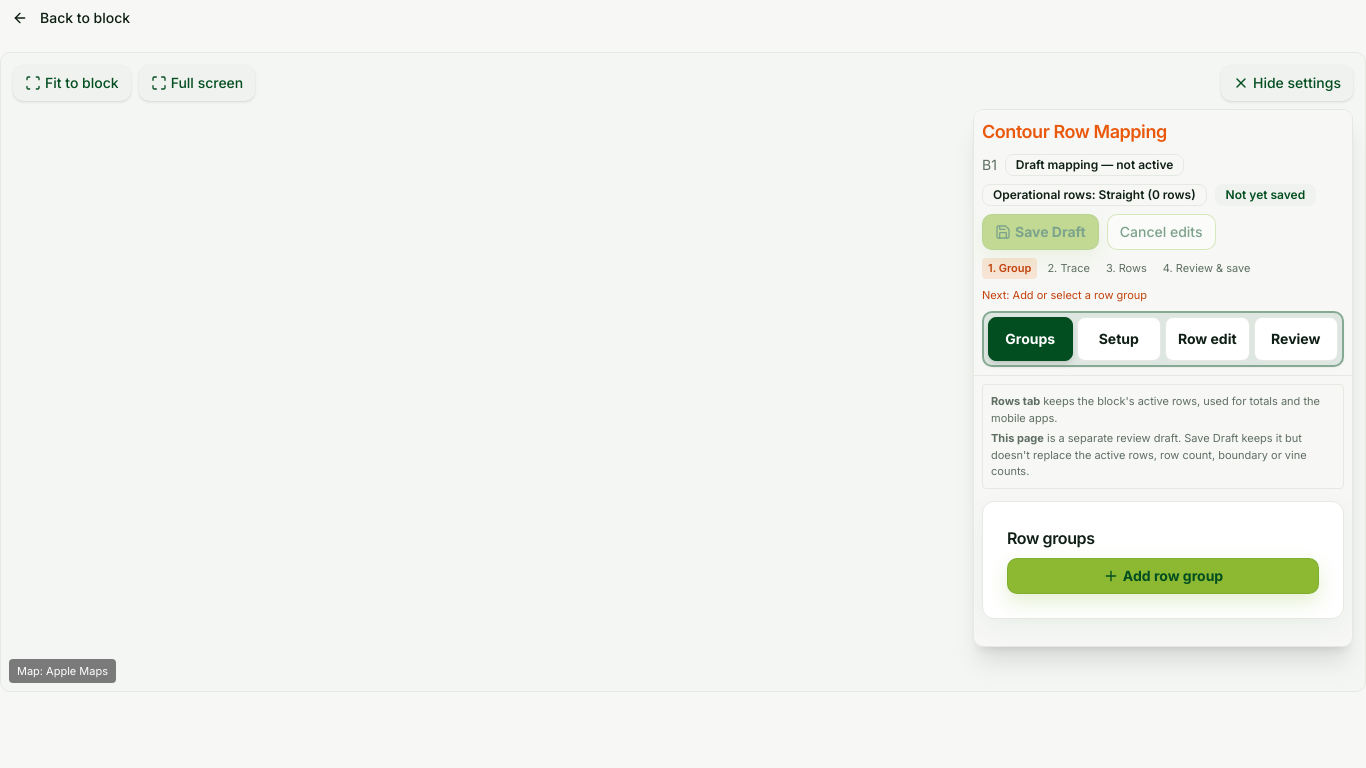
Test: Contour editor tabs › adding a group opens Setup with Start trace; typed fields survive tab switches
Later steps or results of the test are not shown.
Click the button "Add row group": (1163, 576) [1007,558,1319,594]
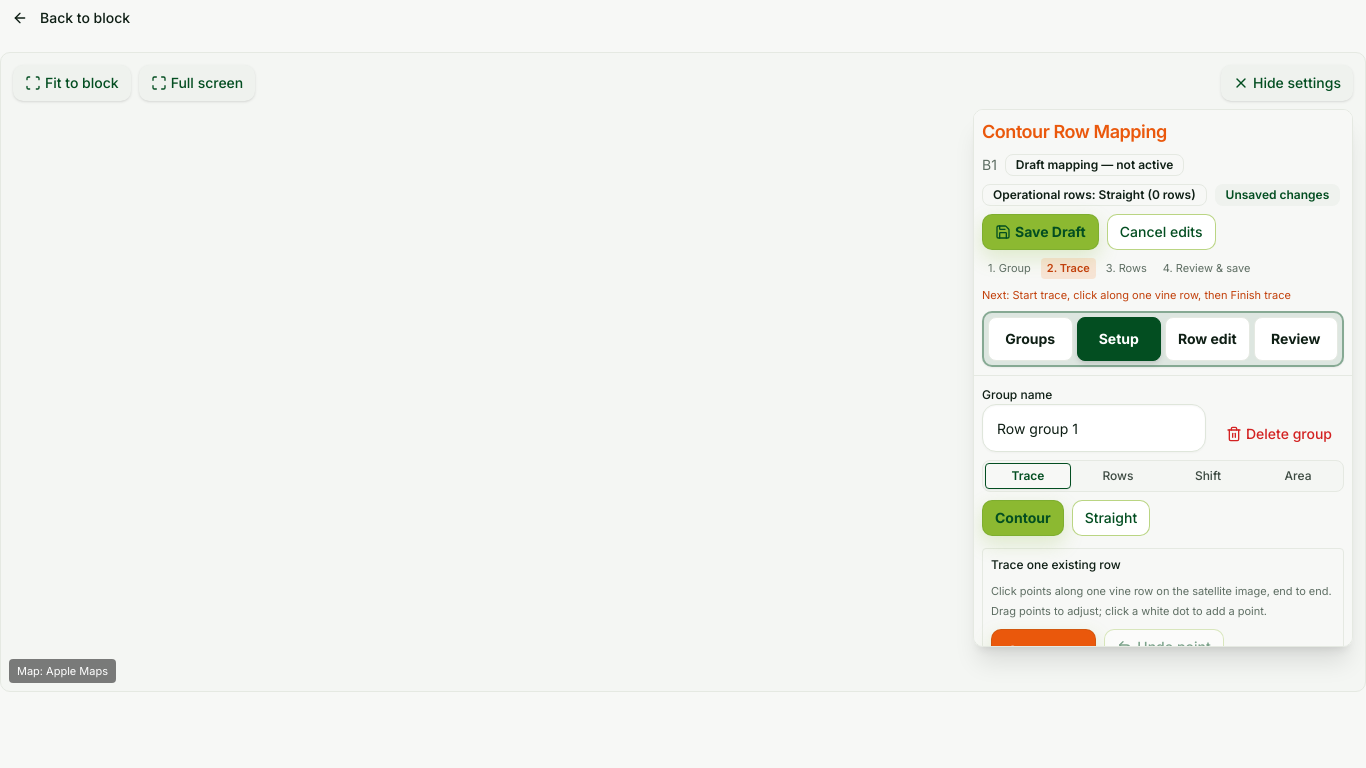
Result: the tab "Setup" is selected at [1076,317,1161,361]
